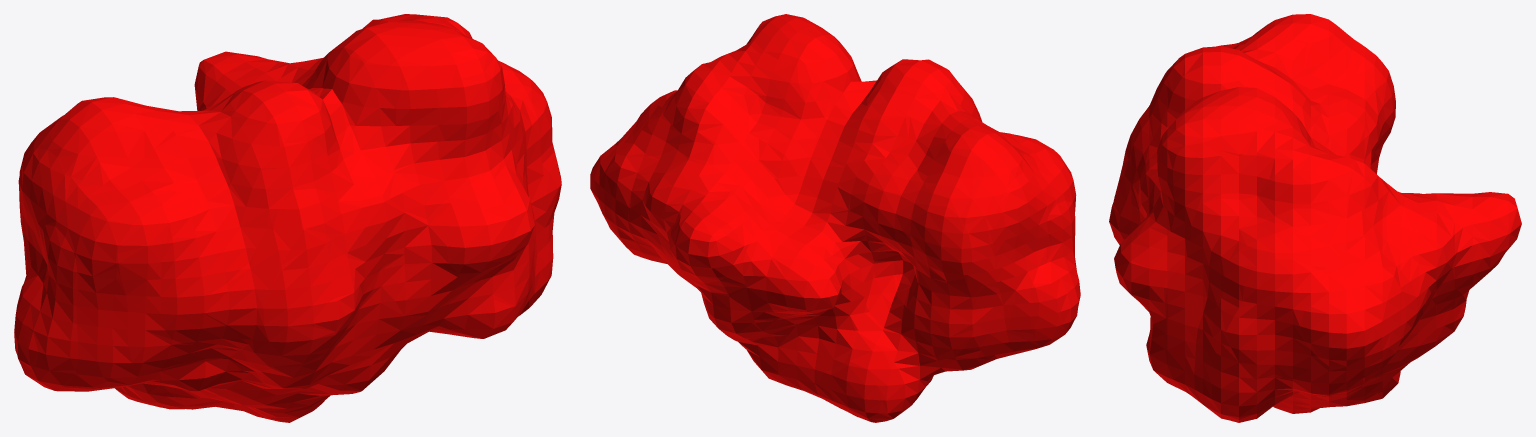
Rendered from dppD_coarse.dae.
The picture shows the model from 3 angles, left to right: view 1: azimuth 30°, elevation 25°; view 2: azimuth 150°, elevation 25°; view 3: azimuth 270°, elevation 25°; orthographic projection. The views are drawn at different scales.
Visible parts, largest first — view 1: dppD; view 2: dppD; view 3: dppD.
Part boxes in pixels (x1,y1,x2,y2): dppD: [14, 14, 561, 422]; dppD: [590, 14, 1080, 422]; dppD: [1109, 14, 1521, 422].
Bounding box in the file's own units: 72.5 × 49.21 × 52.26.
